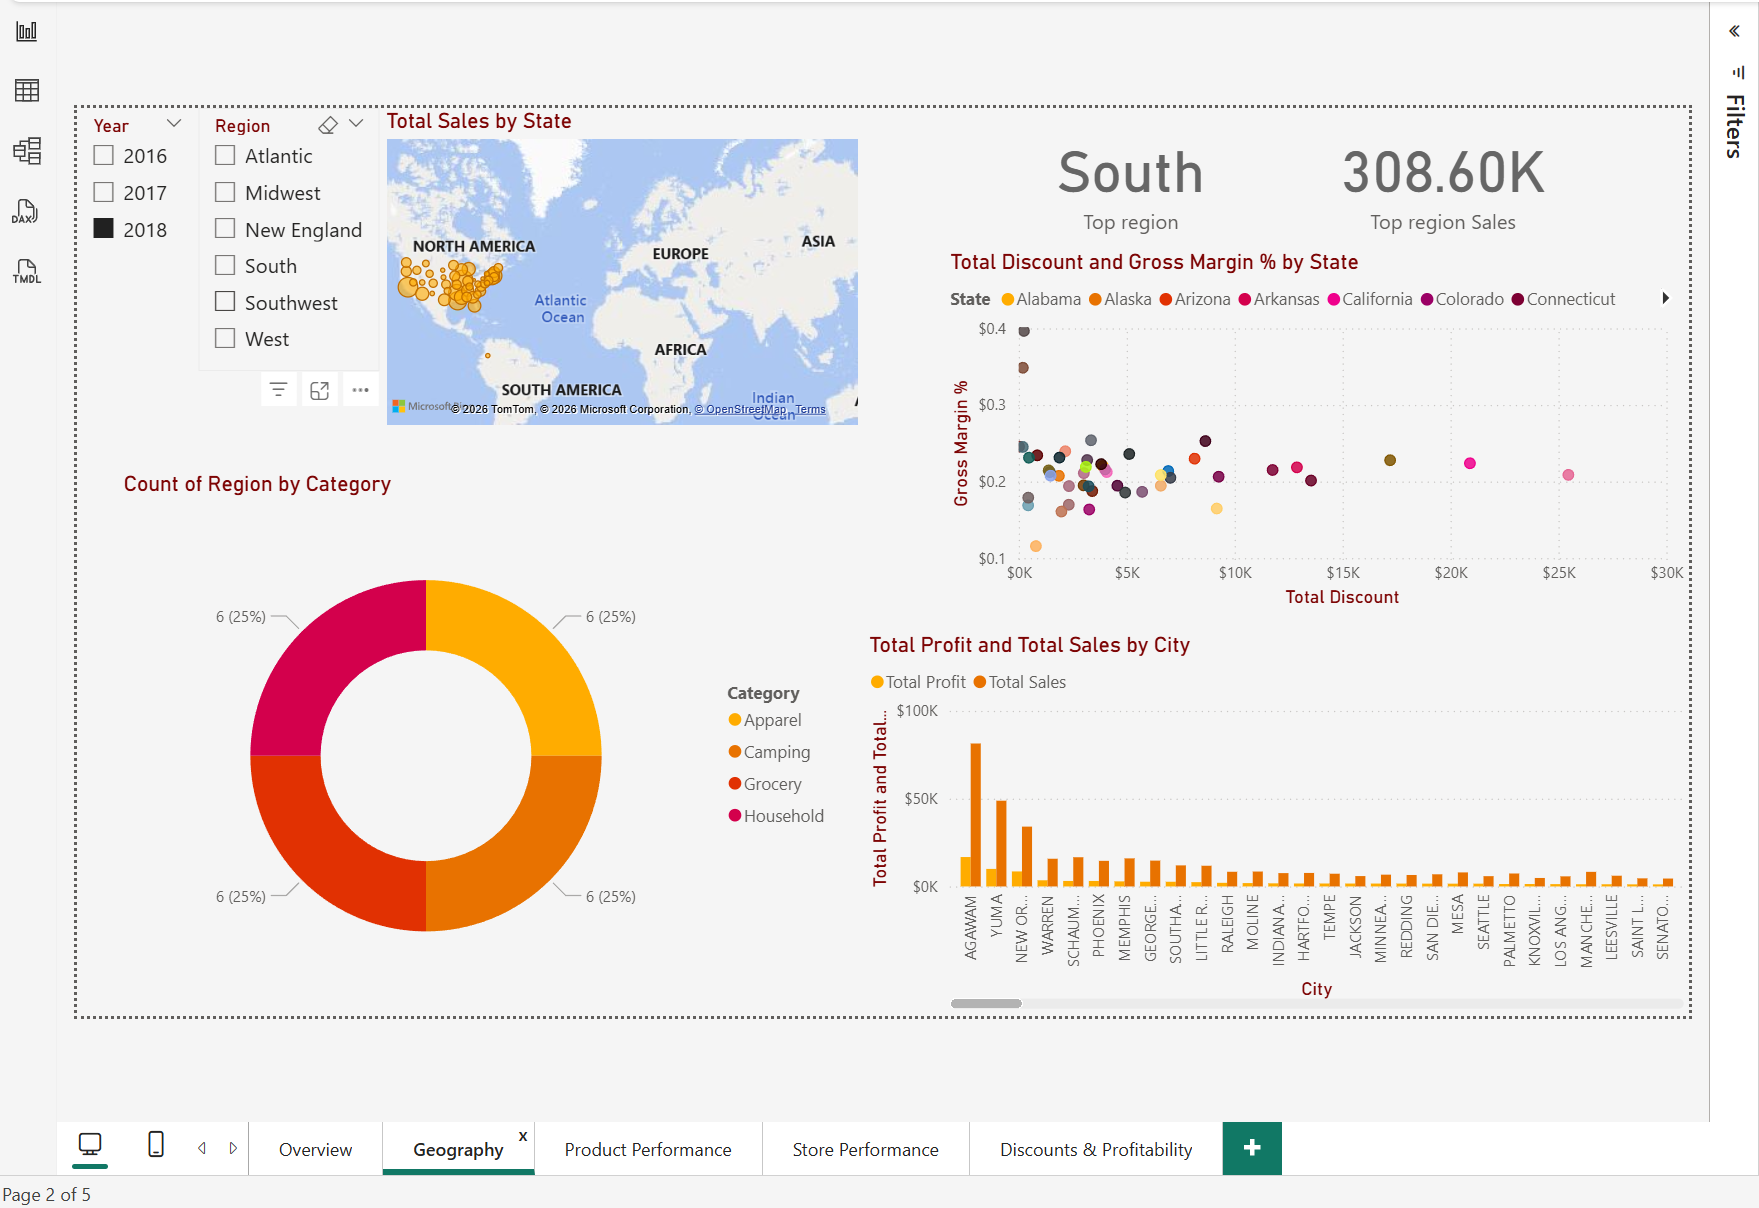

Layout of this report page (visuals, bound fields, positions):
{"tool":"powerbi","page":{"name":"Geography","canvas":[1280,720],"ordinal":1},"visuals":[{"type":"clusteredColumnChart","fields":{"Y":["Transactions.Total Profit","Transactions.Total Sales"],"Category":["Transactions.City"]},"box":[624,416,656,304],"z":0},{"type":"slicer","fields":{"Values":["Region.Region"]},"box":[96,0,144,208],"z":1000},{"type":"slicer","fields":{"Values":["Transactions.Date.Variation.Date Hierarchy.Year"]},"box":[0,0,96,144],"z":2000},{"type":"scatterChart","fields":{"Y":["Transactions.Gross Margin %"],"X":["Transactions.Total Discount"],"Series":["State & Region.State"]},"box":[688,112,592,288],"z":3000},{"type":"map","fields":{"Category":["State & Region.State"],"Size":["Transactions.Total Sales"]},"box":[240,0,384,256],"z":4000},{"type":"card","fields":{"Values":["Transactions.Top region"]},"box":[731.7,0,208,112],"z":5000},{"type":"card","fields":{"Values":["Transactions.Top region Sales"]},"box":[955.7,0,256,112],"z":6000},{"type":"donutChart","fields":{"Y":["CountNonNull(Region.Region)"],"Category":["Transactions.Category"]},"box":[32,288,576,432],"z":7000}]}

Visuals, with their boxes on the page's 1280x720 design canvas (x1, y1, x2, y2). These are canvas units, not pixel positions in the 1759x1208 screenshot, which may show the page scaled, cropped or inside an application window:
clusteredColumnChart - Transactions.Total Profit x Transactions.Total Sales: [left=624, top=416, right=1280, bottom=720]
slicer - Region.Region: [left=96, top=0, right=240, bottom=208]
slicer - Transactions.Date.Variation.Date Hierarchy.Year: [left=0, top=0, right=96, bottom=144]
scatterChart - Transactions.Gross Margin % x Transactions.Total Discount: [left=688, top=112, right=1280, bottom=400]
map - State & Region.State x Transactions.Total Sales: [left=240, top=0, right=624, bottom=256]
card - Transactions.Top region: [left=732, top=0, right=940, bottom=112]
card - Transactions.Top region Sales: [left=956, top=0, right=1212, bottom=112]
donutChart - CountNonNull(Region.Region) x Transactions.Category: [left=32, top=288, right=608, bottom=720]
